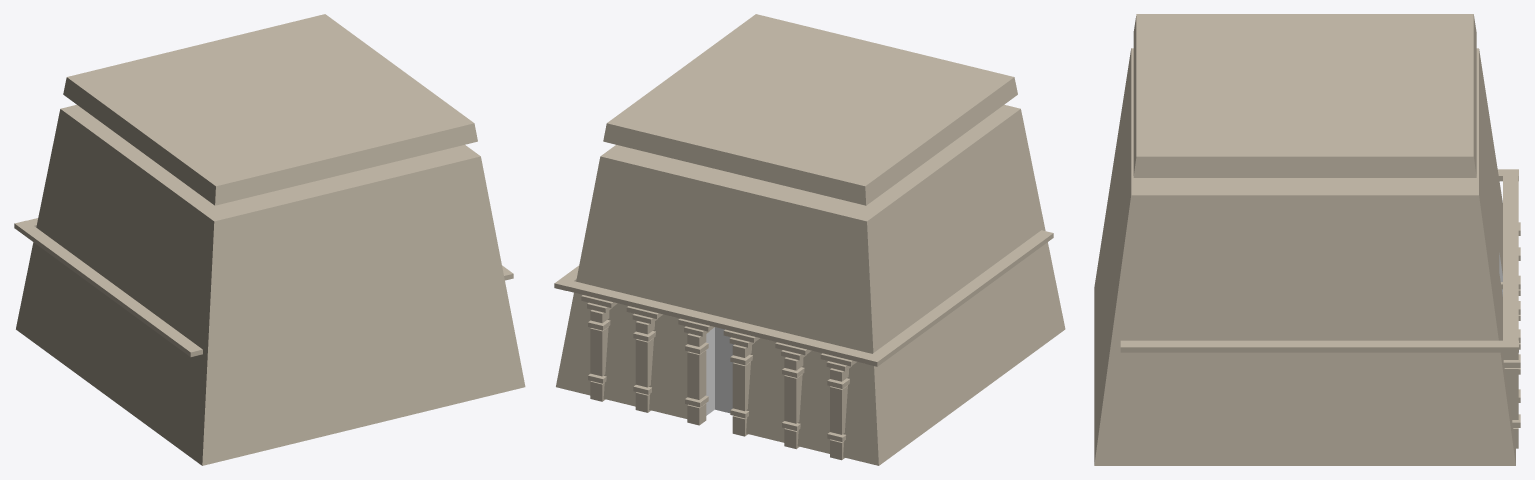
The model's file is Monolithe solo.fbx.
3 renders of one model, left to right at view 1: azimuth 30°, elevation 25°; view 2: azimuth 150°, elevation 25°; view 3: azimuth 270°, elevation 25°, orthographic. The views are drawn at different scales.
Visible parts, largest first — view 1: Cube, Cube_2; view 2: Cube, Cube_2, Cube_3, Cube_8_4, Cube_8, Cube_8_6, Cube_2_8, Cube_2_7, Cube_2_3, Cube_2_6, Cube_2_4, Cube_2_5; view 3: Cube, Cube_1, Cube_8, Cube_8_4, Cube_8_6, Cube_2_4.
Part boxes in pixels (x1=…): Cube: x1=16, y1=14, x2=525, y2=465; Cube_2: x1=14, y1=220, x2=202, y2=356; Cube: x1=556, y1=14, x2=1065, y2=465; Cube_2: x1=865, y1=230, x2=1053, y2=366; Cube_3: x1=706, y1=327, x2=733, y2=415; Cube_8_4: x1=749, y1=325, x2=883, y2=363; Cube_8: x1=555, y1=280, x2=688, y2=317; Cube_8_6: x1=652, y1=302, x2=782, y2=341; Cube_2_8: x1=687, y1=350, x2=706, y2=399; Cube_2_7: x1=732, y1=362, x2=750, y2=411; Cube_2_3: x1=635, y1=338, x2=653, y2=387; Cube_2_6: x1=784, y1=374, x2=802, y2=423; Cube_2_4: x1=590, y1=327, x2=608, y2=376; Cube_2_5: x1=830, y1=385, x2=847, y2=434; Cube: x1=1094, y1=14, x2=1515, y2=465; Cube_1: x1=1120, y1=340, x2=1518, y2=352; Cube_8: x1=1503, y1=276, x2=1518, y2=347; Cube_8_4: x1=1503, y1=169, x2=1518, y2=240; Cube_8_6: x1=1503, y1=240, x2=1518, y2=276; Cube_2_4: x1=1504, y1=368, x2=1518, y2=419.
Bounding box in the file's own units: 4264 × 3282 × 4312.
